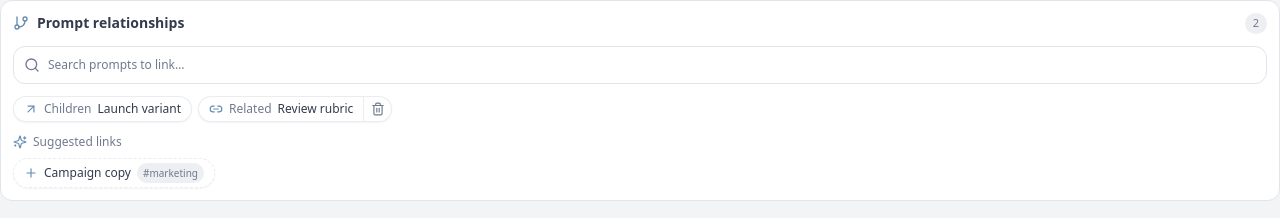
Test case: PromptRelationshipPanel › does not surface already-linked prompts in search results
The image size is (1280, 218).
Type "rubric" into the field labelled "Search prompts to link…" at (652, 64), box [48, 46, 1256, 82]
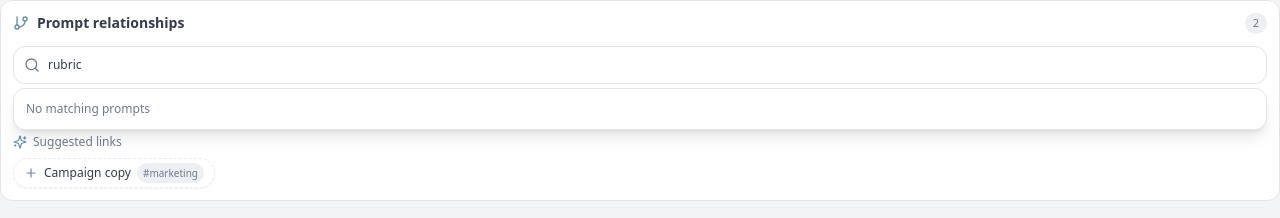
Expected: the text "No matching prompts" is shown, [26, 100, 150, 116]
